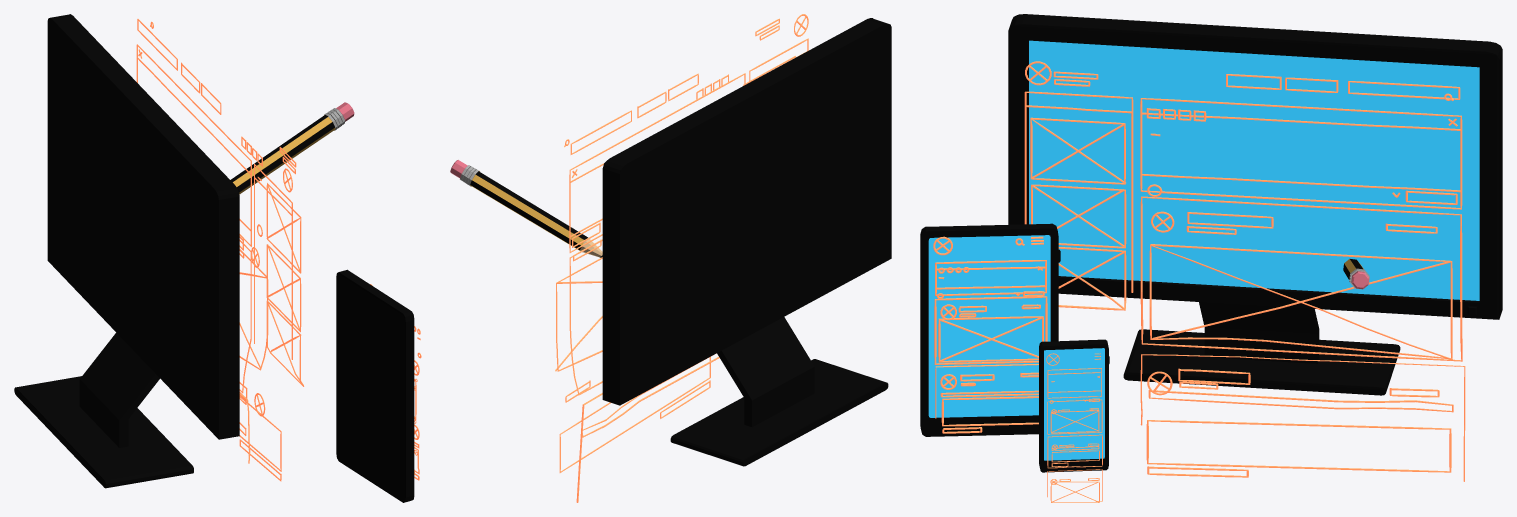
Rendered from home.glb.
3 views of the same model, side by side, from view 1: azimuth 30°, elevation 25°; view 2: azimuth 150°, elevation 25°; view 3: azimuth 270°, elevation 25° (orthographic). The views are drawn at different scales.
Parts seen in each view (by area): view 1: computer, tablet, computer_wireframe, pencil; view 2: computer, computer_wireframe, pencil; view 3: computer, computer_wireframe, tablet, phone, tablet_wireframe, phone_wireframe.
Part boxes in pixels (x1,y1,x2,y2): computer: (14, 14, 239, 488); tablet: (336, 269, 414, 502); computer_wireframe: (136, 19, 304, 481); pencil: (230, 102, 354, 194); computer: (602, 18, 891, 466); computer_wireframe: (555, 14, 808, 502); pencil: (450, 160, 602, 257); computer: (1008, 14, 1502, 395); computer_wireframe: (1024, 61, 1465, 481); tablet: (920, 223, 1060, 436); phone: (1039, 339, 1109, 472); tablet_wireframe: (933, 236, 1047, 433); phone_wireframe: (1046, 353, 1102, 502).
Bounding box in the file's own units: 8.29 × 8.51 × 11.04.
